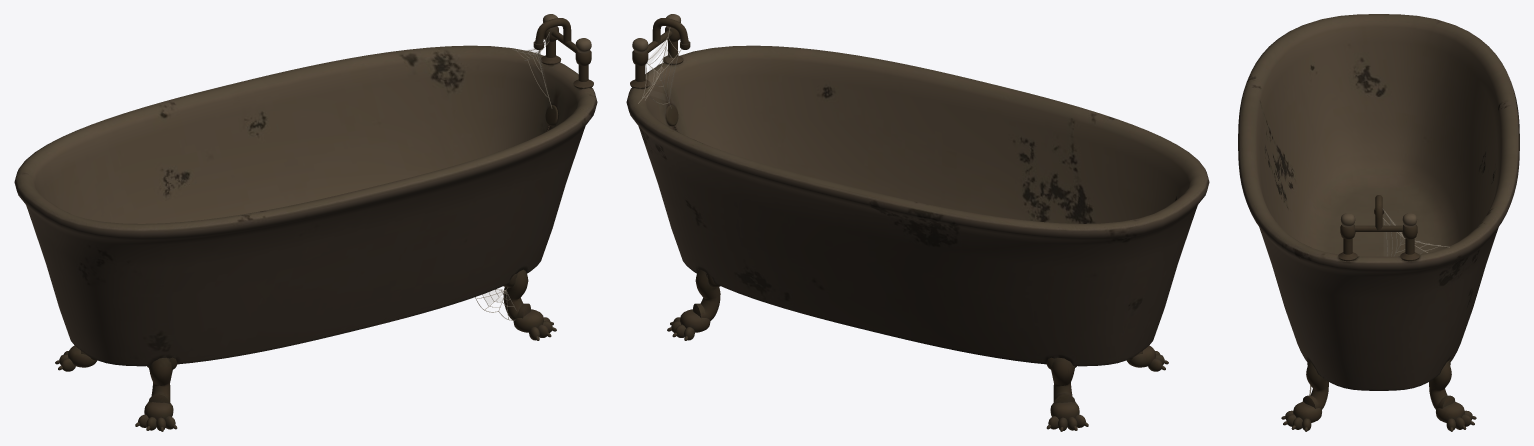
The model's file is clawfoot-bathtub.glb.
The picture shows the model from 3 angles, left to right: view 1: azimuth 30°, elevation 25°; view 2: azimuth 150°, elevation 25°; view 3: azimuth 270°, elevation 25°; orthographic projection. The views are drawn at different scales.
Parts seen in each view (by area): view 1: clawfoot-bathtub_body; view 2: clawfoot-bathtub_body, clawfoot-bathtub_web; view 3: clawfoot-bathtub_body, clawfoot-bathtub_web.
Boxes of the visible parts, <box> form: clawfoot-bathtub_body: <box>14,14,597,431</box>; clawfoot-bathtub_body: <box>626,14,1209,431</box>; clawfoot-bathtub_web: <box>638,27,681,108</box>; clawfoot-bathtub_body: <box>1238,14,1519,431</box>; clawfoot-bathtub_web: <box>1382,208,1449,256</box>.
Bounding box in the file's own units: 1.62 × 0.7742 × 0.774.
Materials: 3 (1 with a texture image).
